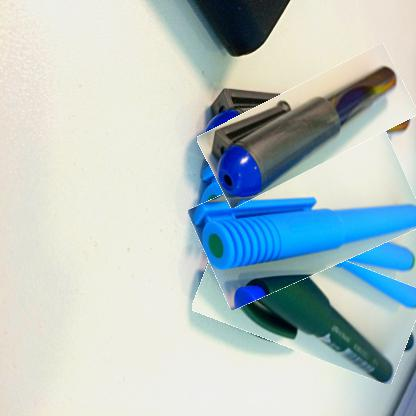Pen: (193, 143, 415, 294), (196, 232, 415, 370), (199, 64, 415, 189)
